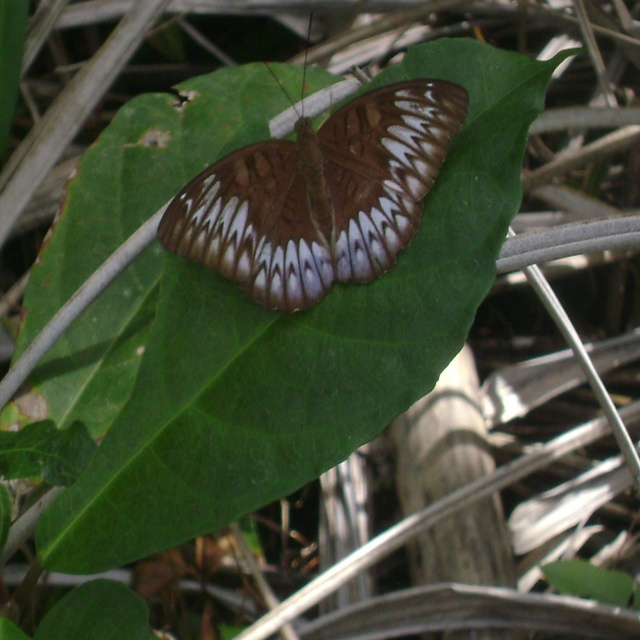Butterfly: (156, 9, 468, 313)
